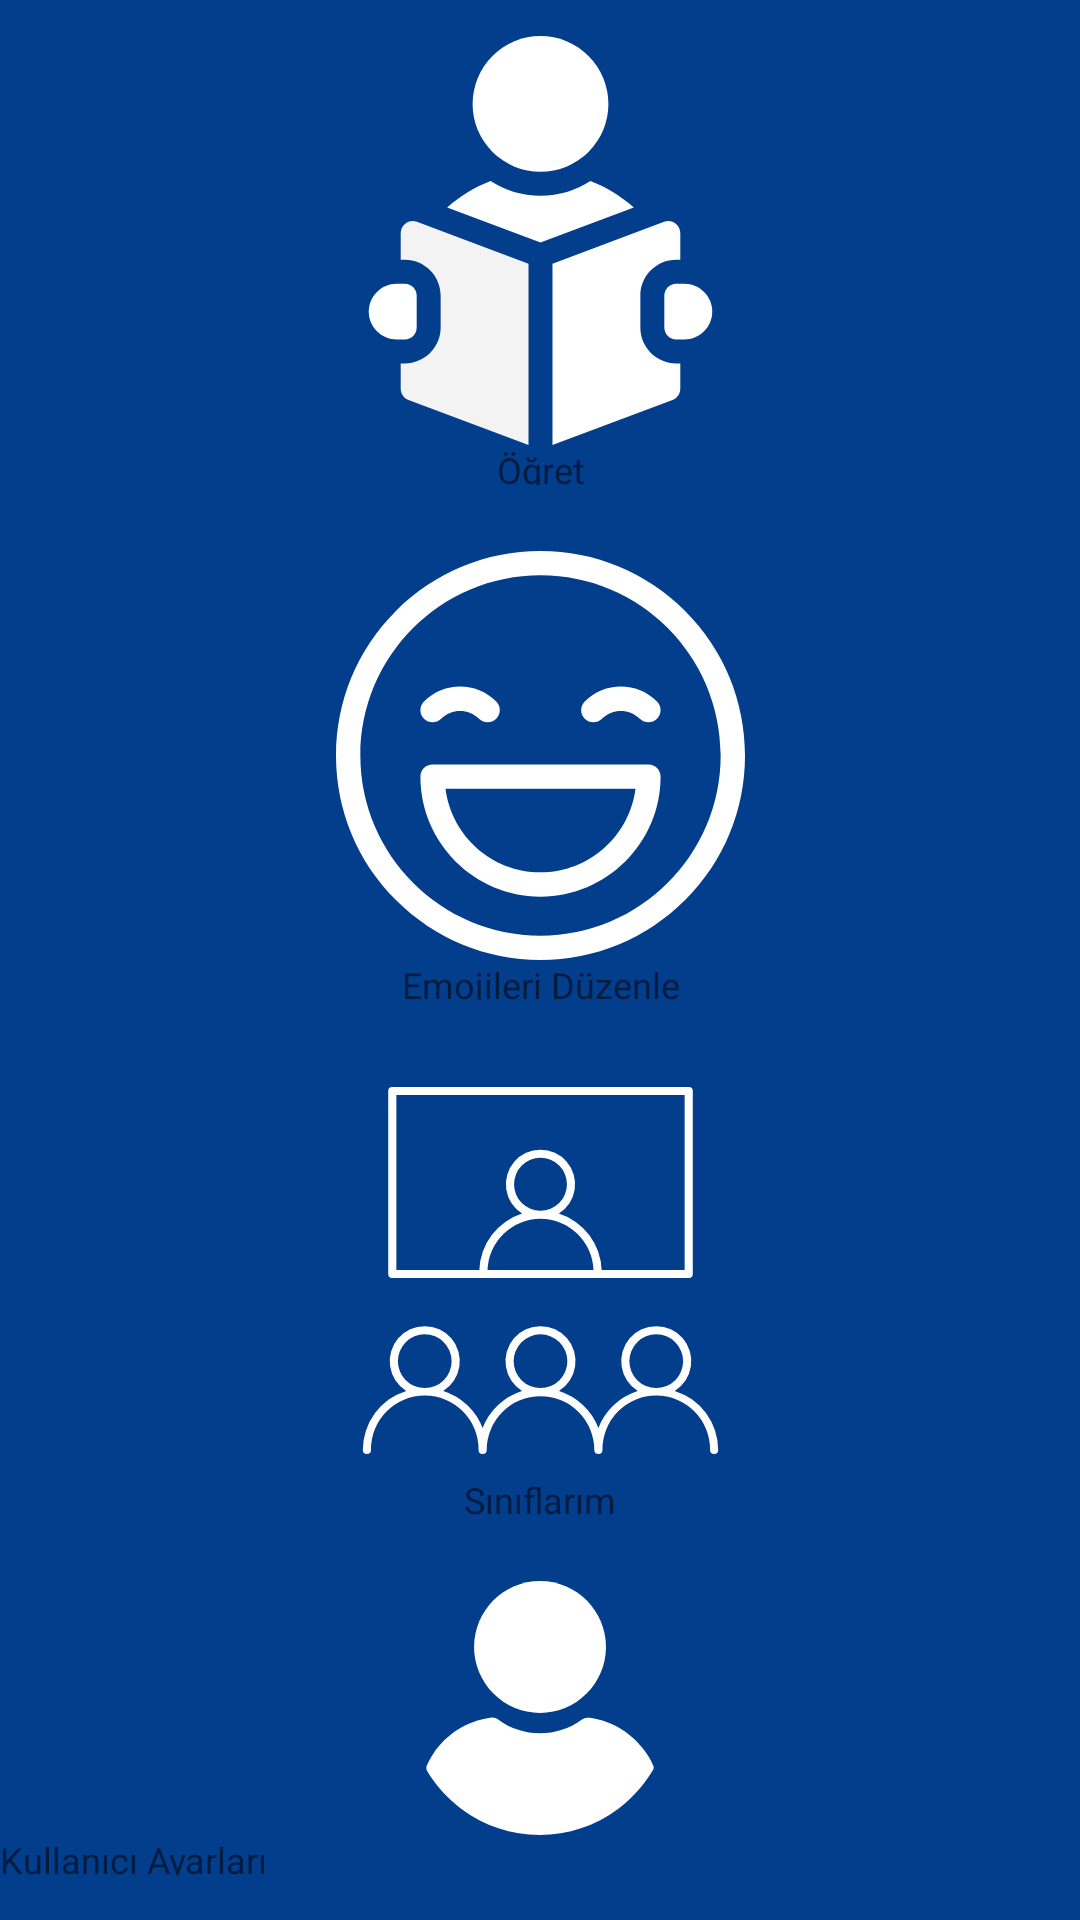

Named icons in this screenshot (1080 × 1920) and their bounding boxes, {"x1": x1, "y1": y1, "x2": x2, "y2": y2}:
user: {"x1": 426, "y1": 1581, "x2": 654, "y2": 1835}
